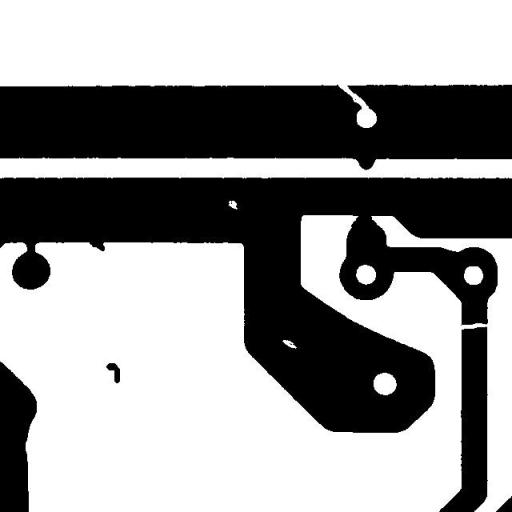copper: (98, 356, 128, 390)
open: (330, 75, 376, 118), (453, 315, 496, 337)
pin-hole: (274, 332, 304, 356), (221, 193, 245, 217)
short: (343, 206, 384, 236)
spur: (81, 229, 112, 258)
